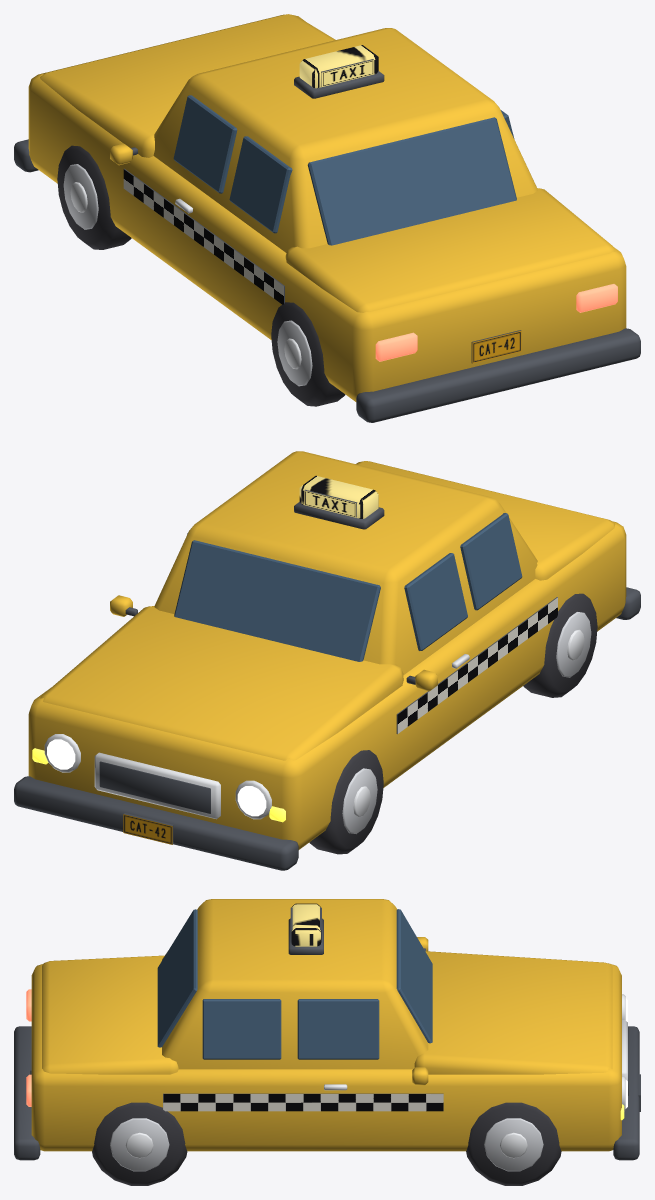
Rendered from vehicle_taxi.glb.
3 views of the same model, one above another, from view 1: azimuth 30°, elevation 25°; view 2: azimuth 150°, elevation 25°; view 3: azimuth 270°, elevation 25° (orthographic). The views are drawn at different scales.
Visible parts, largest first — view 1: Vehicle_Taxi; view 2: Vehicle_Taxi; view 3: Vehicle_Taxi.
Boxes of the visible parts, x1=… form: Vehicle_Taxi: x1=14, y1=14, x2=640, y2=422; Vehicle_Taxi: x1=14, y1=451, x2=640, y2=870; Vehicle_Taxi: x1=14, y1=899, x2=640, y2=1185.
Size of the model in its own units: 2.23 by 1.61 by 4.29.
12 materials, 3 textured.
